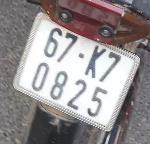0: (29, 59, 52, 94)
2: (66, 76, 93, 113)
5: (84, 83, 110, 120)
6: (41, 23, 65, 61)
7: (96, 50, 125, 85), (54, 30, 80, 66)
8: (47, 68, 72, 103)
K: (82, 42, 110, 81)
